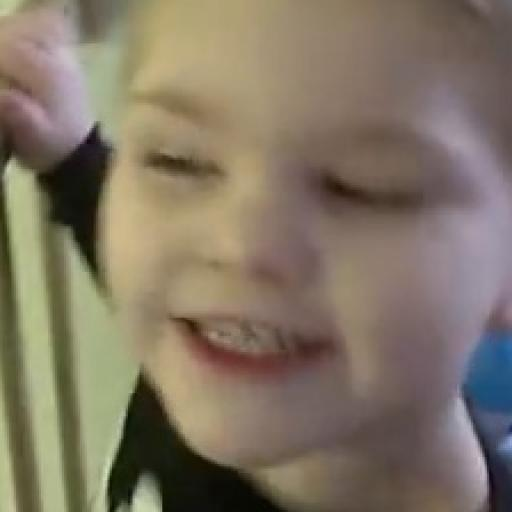Autism: (90, 10, 502, 488)
